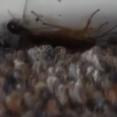cockroach: (40, 23, 98, 52)
